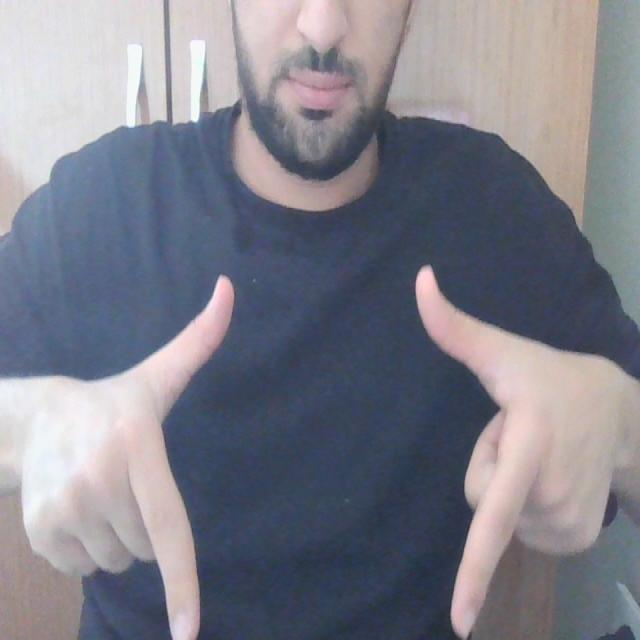Nerede: (113, 260, 546, 640)
